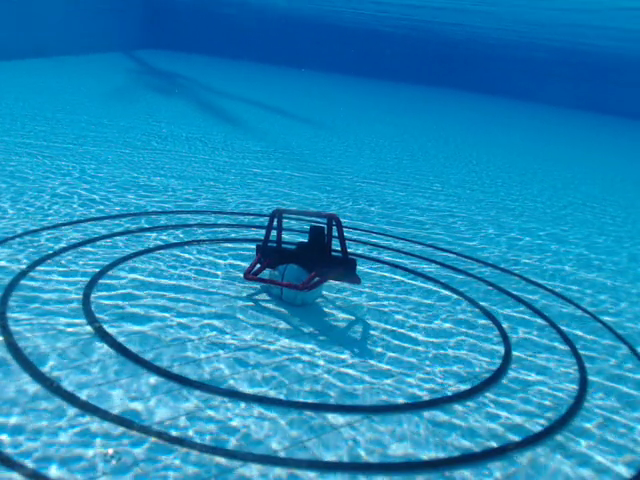submarine: (243, 207, 364, 292)
